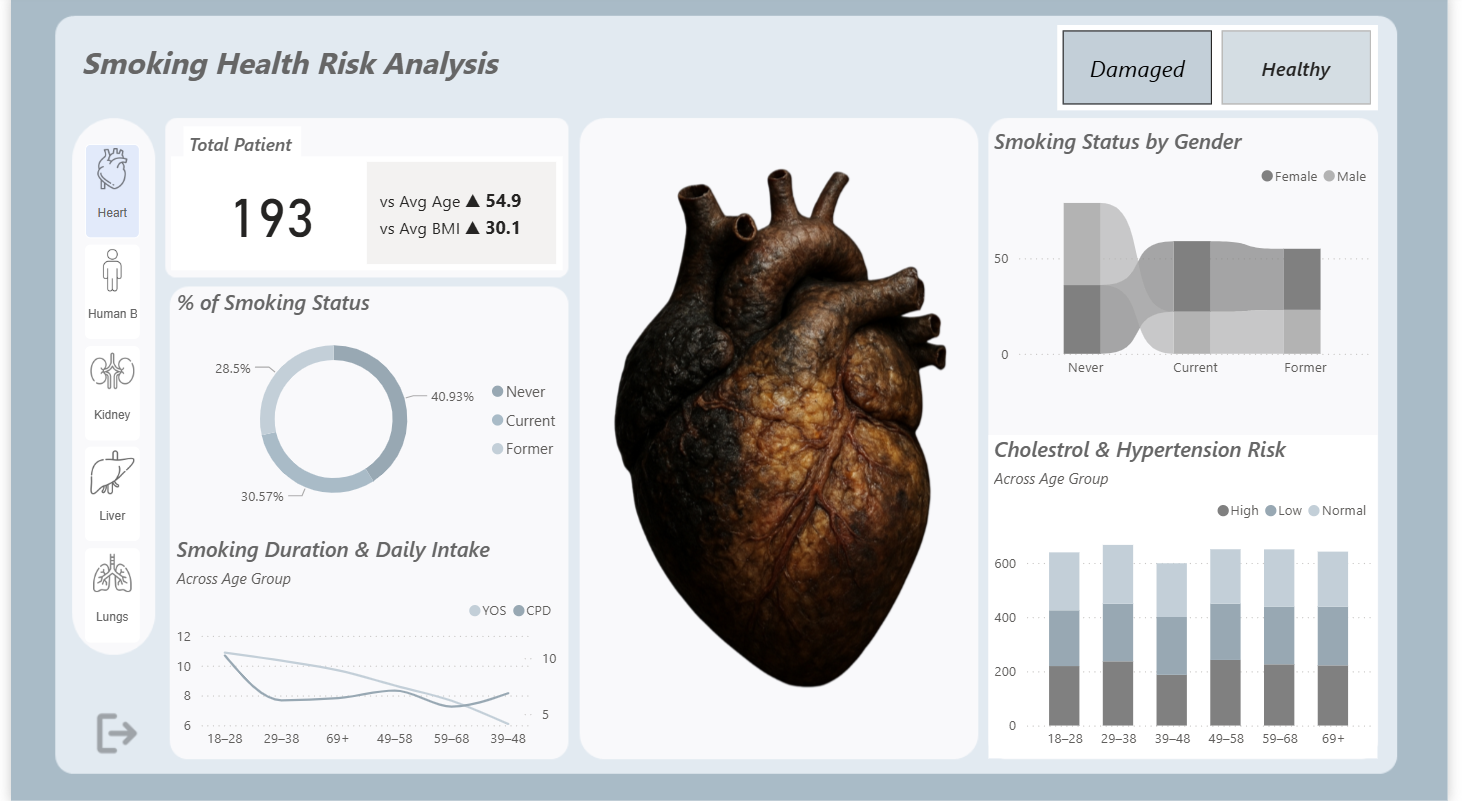

Layout of this report page (visuals, bound fields, positions):
{"tool":"powerbi","page":{"name":"Page 1","canvas":[1280,720],"ordinal":0},"visuals":[{"type":"cardVisual","fields":{"Data":["CountNonNull(health_dataset.Patient_ID)"]},"box":[142.4,143.6,348.7,101.3],"z":0},{"type":"textbox","box":[153.2,117,105,37.4],"z":1000},{"type":"advancedSlicerVisual","fields":{"Values":["condition.Organ_Condition"]},"box":[931.4,26.5,285.9,76],"z":2000},{"type":"ChicletSlicer1448559807354","fields":{"Category":["Organs.Organ"],"Image":["Organs.Icon_URL"]},"box":[57.9,124.3,72.4,469.3],"z":3000},{"type":"simpleImageEBC4593F96F1425FB3D84C5BF02B5075","fields":{"imageURL":["Image Dataset.Image URL"]},"box":[520,102.5,330.6,577.9],"z":4000},{"type":"donutChart","title":"% of Smoking Status","fields":{"Category":["health_dataset.Smoking_Status"],"Y":["CountNonNull(health_dataset.Smoking_Status)"]},"box":[142.4,260.6,357.1,209.9],"z":5000},{"type":"lineChart","title":"Smoking Duration & Daily Intake","fields":{"Category":["health_dataset.Age Group"],"Y":["Avg(health_dataset.Years_of_Smoking)"],"Y2":["Avg(health_dataset.Cigarettes_Per_Day)"]},"box":[142.4,481.4,348.7,199.1],"z":6000},{"type":"ribbonChart","title":"Smoking Status by Gender","fields":{"Category":["health_dataset.Smoking_Status"],"Y":["CountNonNull(health_dataset.Patient_ID)"],"Series":["health_dataset.Gender"]},"box":[871.1,117,346.2,232.8],"z":7000},{"type":"columnChart","title":"Cholestrol & Hypertension Risk","fields":{"Category":["health_dataset.Age Group"],"Y":["Avg(health_dataset.Cholesterol_Level)"],"Series":["health_dataset.BP_Risk"]},"box":[871.1,392.1,346.2,288.3],"z":8000},{"type":"textbox","box":[57.9,36.2,382.4,53.1],"z":9000}]}

Visuals, with their boxes in screenshot pixels (x1, y1, x2, y2), scaled from the page's 1280x720 canvas onto the 1462x801 screenshot:
cardVisual - CountNonNull(health_dataset.Patient_ID): <region>163, 160, 561, 272</region>
textbox: <region>175, 130, 295, 172</region>
advancedSlicerVisual - condition.Organ_Condition: <region>1064, 29, 1390, 114</region>
ChicletSlicer1448559807354 - Organs.Organ x Organs.Icon_URL: <region>66, 138, 149, 660</region>
simpleImageEBC4593F96F1425FB3D84C5BF02B5075 - Image Dataset.Image URL: <region>594, 114, 972, 757</region>
"% of Smoking Status" donutChart: <region>163, 290, 571, 523</region>
"Smoking Duration & Daily Intake" lineChart: <region>163, 536, 561, 757</region>
"Smoking Status by Gender" ribbonChart: <region>995, 130, 1390, 389</region>
"Cholestrol & Hypertension Risk" columnChart: <region>995, 436, 1390, 757</region>
textbox: <region>66, 40, 503, 99</region>
